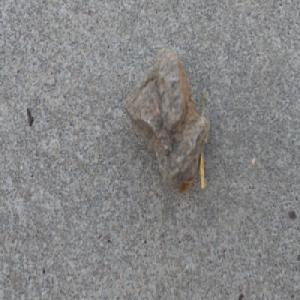Rock: (121, 45, 210, 195)
